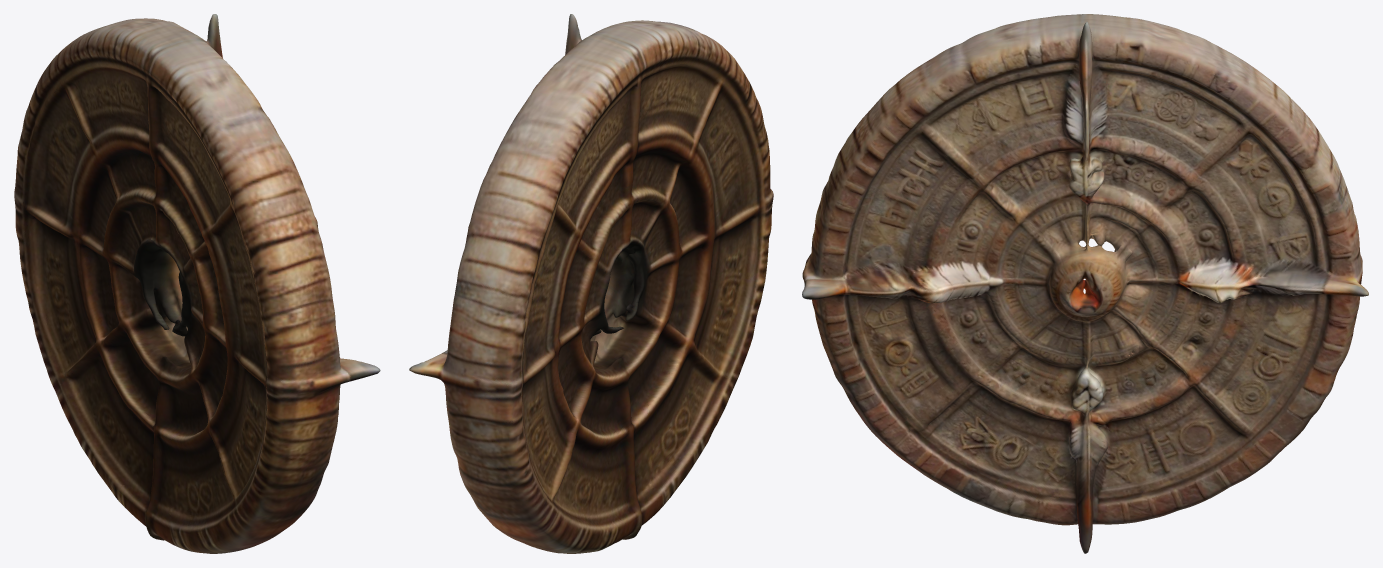
File: medicine_wheel_3d.glb
3 renders of one model, left to right at view 1: azimuth 30°, elevation 25°; view 2: azimuth 150°, elevation 25°; view 3: azimuth 270°, elevation 25°, orthographic.
Parts seen in each view (by area): view 1: tripo_node_5d4ea506-f5bd-4b86-b901-d7a76aecf33a; view 2: tripo_node_5d4ea506-f5bd-4b86-b901-d7a76aecf33a; view 3: tripo_node_5d4ea506-f5bd-4b86-b901-d7a76aecf33a.
Part boxes in pixels (box(x1,y1,x2,y2)): tripo_node_5d4ea506-f5bd-4b86-b901-d7a76aecf33a: box(14, 14, 380, 553); tripo_node_5d4ea506-f5bd-4b86-b901-d7a76aecf33a: box(409, 14, 773, 553); tripo_node_5d4ea506-f5bd-4b86-b901-d7a76aecf33a: box(802, 14, 1368, 553).
Size of the model in its own units: 0.1521 by 0.7743 by 0.7493.
1 material, 1 textured.
